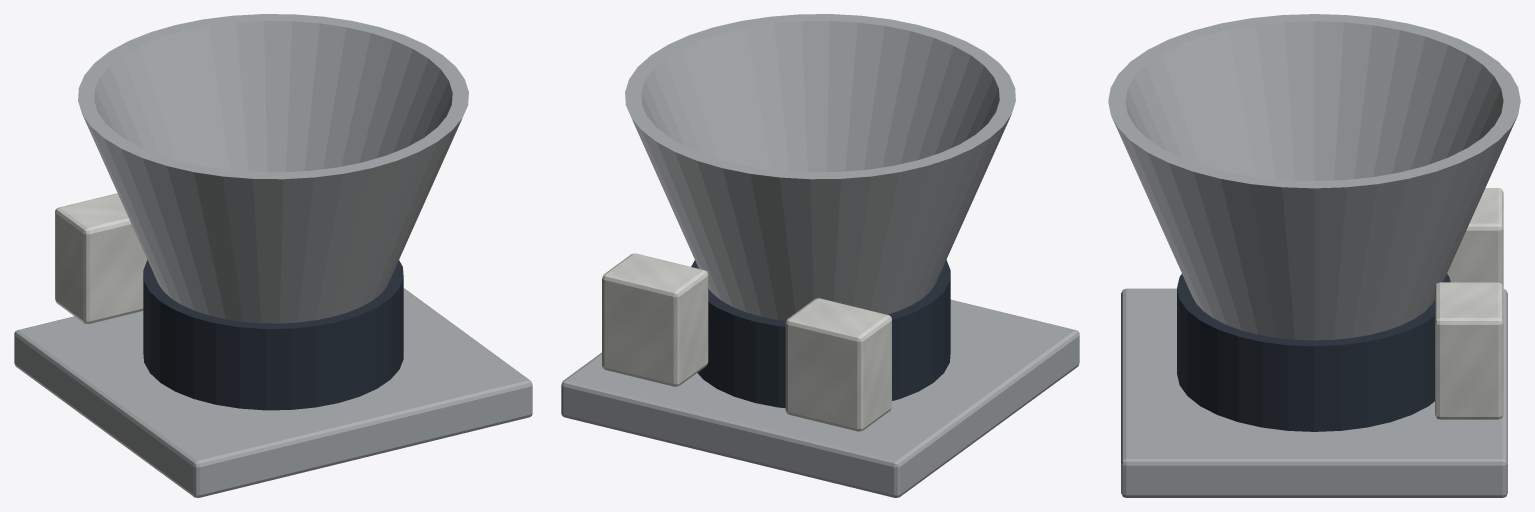
Rendered from probe_dust_analyzer.glb.
3 renders of one model, left to right at view 1: azimuth 30°, elevation 25°; view 2: azimuth 150°, elevation 25°; view 3: azimuth 270°, elevation 25°, orthographic. The views are drawn at different scales.
Parts seen in each view (by area): view 1: Collector_Bucket, Analyzer_Mount, Analyzer_InstrumentBase, Detector_Electronics.002; view 2: Collector_Bucket, Analyzer_Mount, Analyzer_InstrumentBase, Detector_Electronics.003, Detector_Electronics.002; view 3: Collector_Bucket, Analyzer_Mount, Analyzer_InstrumentBase, Detector_Electronics.003, Detector_Electronics.002.
Boxes of the visible parts, x1,y1,x2,y2 form: Collector_Bucket: [78, 14, 468, 323]; Analyzer_Mount: [14, 288, 532, 497]; Analyzer_InstrumentBase: [143, 260, 403, 410]; Detector_Electronics.002: [55, 193, 147, 323]; Collector_Bucket: [625, 14, 1015, 321]; Analyzer_Mount: [561, 299, 1079, 497]; Analyzer_InstrumentBase: [691, 260, 950, 408]; Detector_Electronics.003: [602, 253, 708, 386]; Detector_Electronics.002: [785, 298, 891, 431]; Collector_Bucket: [1108, 14, 1520, 340]; Analyzer_Mount: [1121, 288, 1507, 497]; Analyzer_InstrumentBase: [1177, 274, 1450, 431]; Detector_Electronics.003: [1435, 282, 1503, 419]; Detector_Electronics.002: [1447, 188, 1503, 286].
Size of the model in its own units: 0.48 by 0.4 by 0.48.
Materials: 3 (1 with a texture image).
